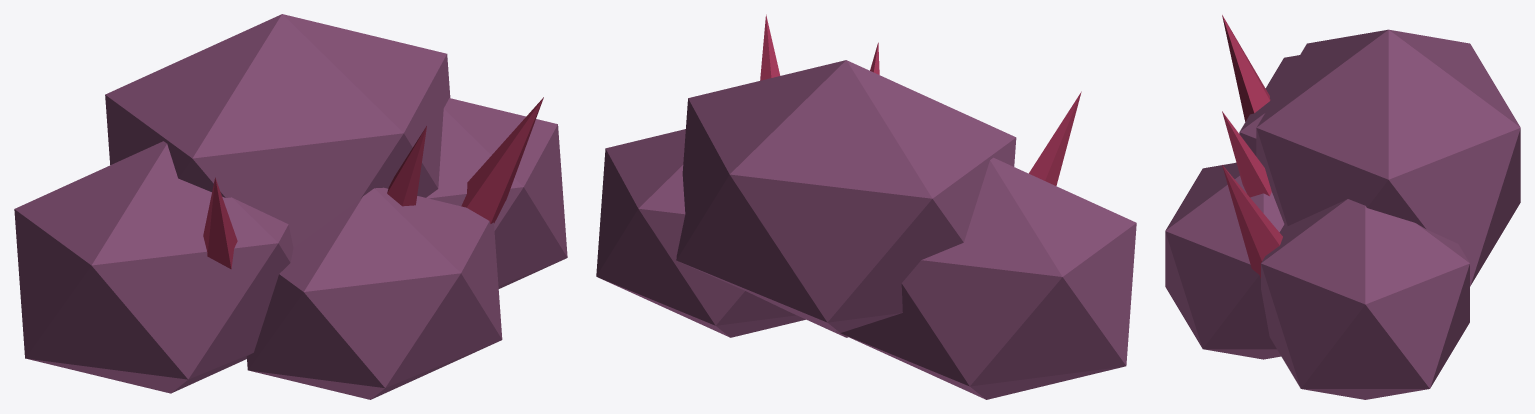
The model's file is pg_bush.fbx.
The picture shows the model from 3 angles, left to right: view 1: azimuth 30°, elevation 25°; view 2: azimuth 150°, elevation 25°; view 3: azimuth 270°, elevation 25°; orthographic projection. The views are drawn at different scales.
Parts seen in each view (by area): view 1: GEO-Bush.001, GEO-Bush, GEO-Bush.003, GEO-Bush.002, GEO-BushThorn.002, GEO-BushThorn, GEO-BushThorn.001; view 2: GEO-Bush.001, GEO-Bush, GEO-Bush.002, GEO-BushThorn, GEO-BushThorn.002; view 3: GEO-Bush.001, GEO-Bush.002, GEO-Bush.003, GEO-BushThorn.002, GEO-BushThorn, GEO-BushThorn.001, GEO-Bush.
Boxes of the visible parts, x1,y1,x2,y2 form: GEO-Bush.001: [105, 14, 450, 247]; GEO-Bush: [14, 141, 293, 393]; GEO-Bush.003: [246, 187, 502, 399]; GEO-Bush.002: [426, 98, 567, 288]; GEO-BushThorn.002: [461, 97, 543, 223]; GEO-BushThorn: [203, 177, 237, 269]; GEO-BushThorn.001: [387, 126, 426, 206]; GEO-Bush.001: [676, 60, 1016, 337]; GEO-Bush: [836, 157, 1136, 399]; GEO-Bush.002: [596, 129, 805, 337]; GEO-BushThorn: [1029, 91, 1081, 185]; GEO-BushThorn.002: [760, 14, 780, 80]; GEO-Bush.001: [1256, 29, 1520, 286]; GEO-Bush.002: [1261, 199, 1469, 399]; GEO-Bush.003: [1165, 162, 1284, 359]; GEO-BushThorn.002: [1222, 165, 1282, 278]; GEO-BushThorn: [1222, 15, 1270, 121]; GEO-BushThorn.001: [1222, 111, 1271, 197]; GEO-Bush: [1239, 55, 1299, 155].
Bounding box in the file's own units: 125 × 76.25 × 76.76.
